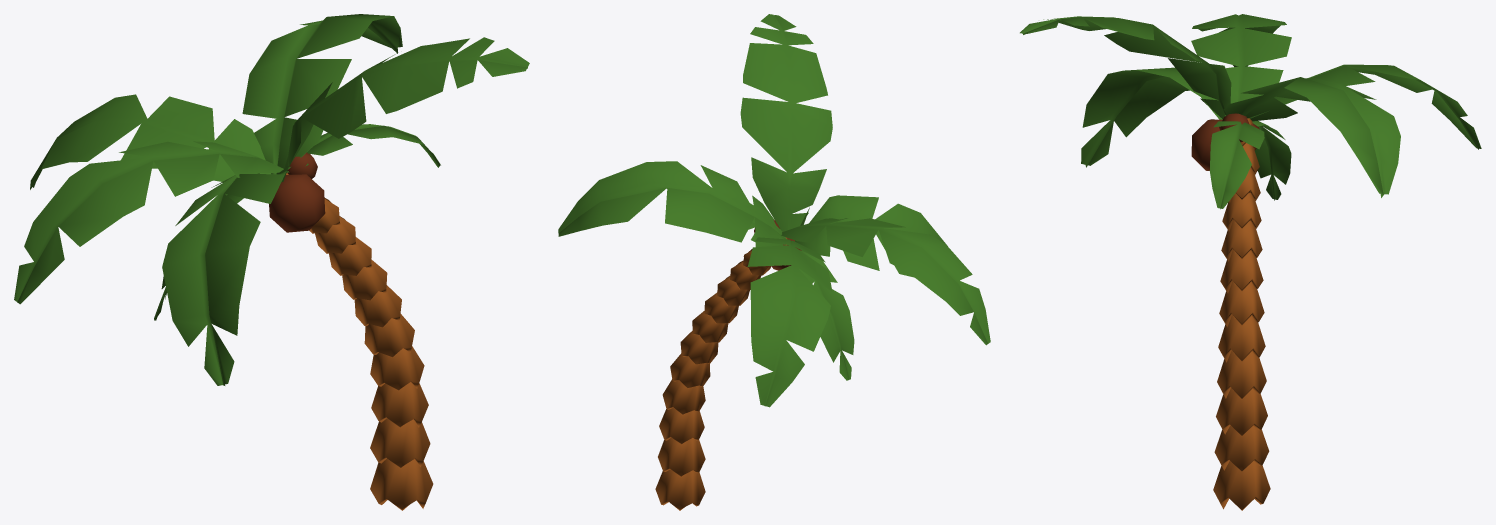
The model's file is SM_Palm_Tree_Coconut_B.fbx.
The picture shows the model from 3 angles, left to right: view 1: azimuth 30°, elevation 25°; view 2: azimuth 150°, elevation 25°; view 3: azimuth 270°, elevation 25°; orthographic projection. The views are drawn at different scales.
Visible parts, largest first — view 1: SM_Palm_Tree_Coconut_B.001; view 2: SM_Palm_Tree_Coconut_B.001; view 3: SM_Palm_Tree_Coconut_B.001.
Part boxes in pixels (x1,y1,x2,y2): SM_Palm_Tree_Coconut_B.001: (14,14,529,510); SM_Palm_Tree_Coconut_B.001: (558,14,990,510); SM_Palm_Tree_Coconut_B.001: (1020,14,1481,510).
Bounding box in the file's own units: 1018 × 979 × 1119.
